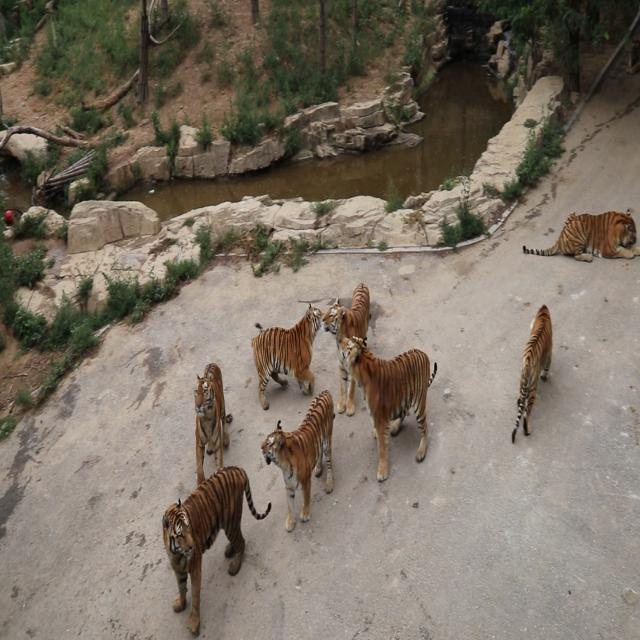Tiger: (161, 464, 272, 633), (336, 328, 442, 483), (266, 381, 350, 536), (250, 294, 323, 411), (506, 300, 558, 444), (520, 208, 640, 268), (324, 271, 371, 414), (192, 358, 234, 483)
